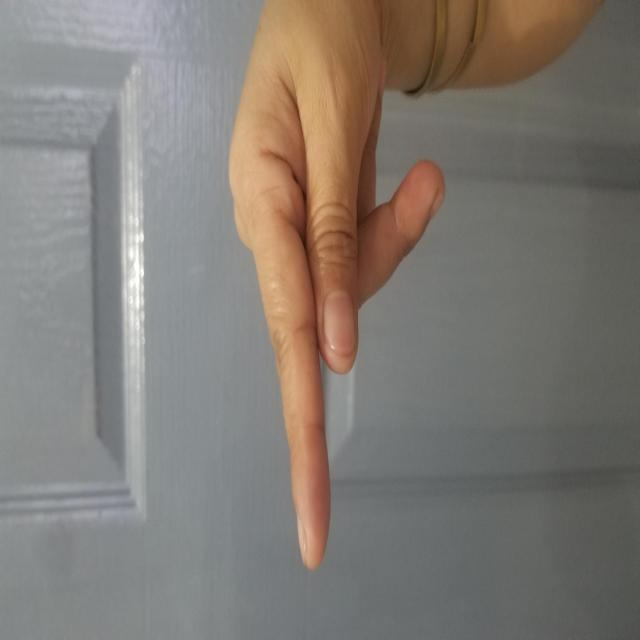P: (196, 81, 475, 584)
